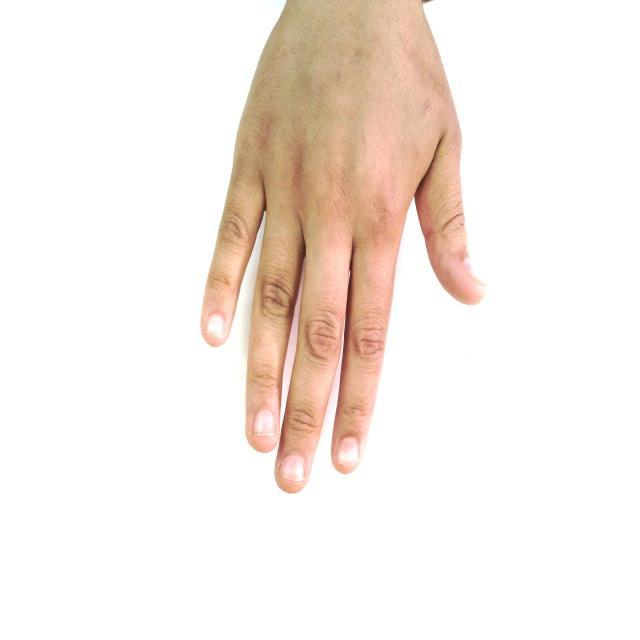Fingernail: (338, 437, 359, 468), (281, 455, 305, 481), (254, 410, 275, 436), (464, 260, 484, 285), (206, 315, 224, 338)
